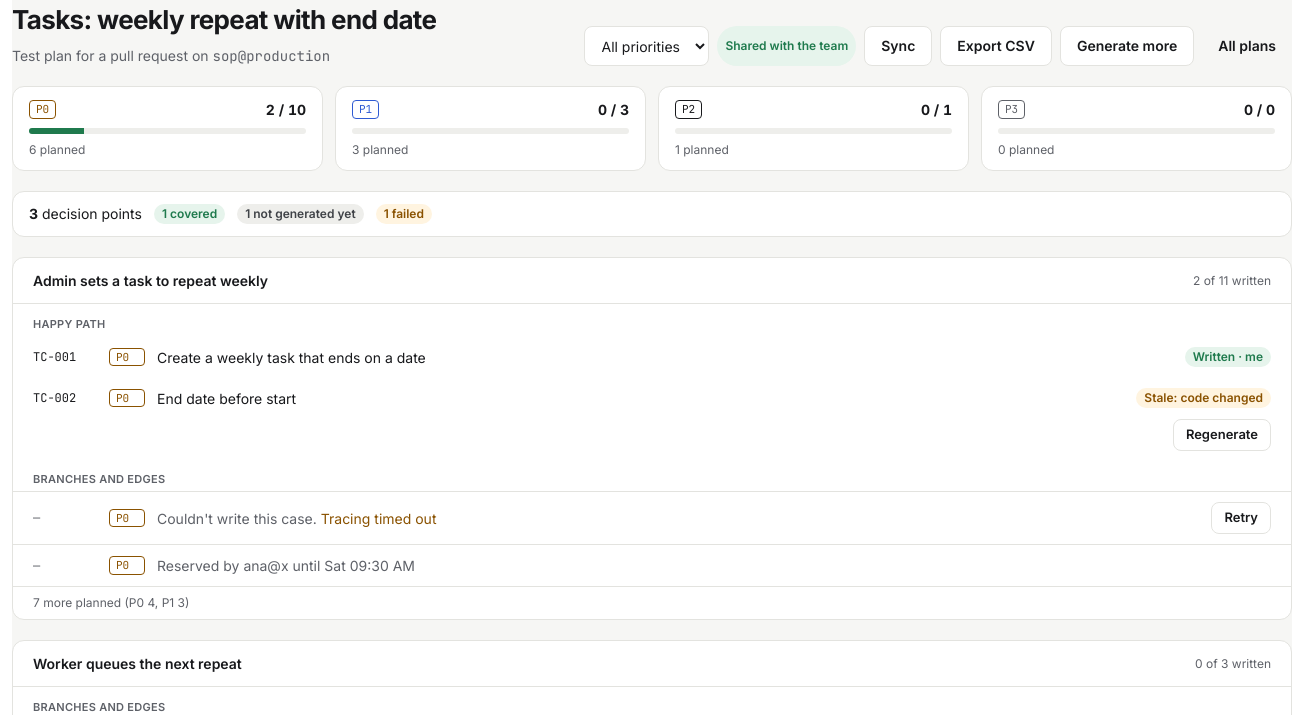
Test: reserve_and_generate_on_shared_plan_with_offline_warning
This screenshot has width=1304, height=715.
What coordinates should you click on to do the following:
click the button "Generate more"
I would click on:
 (1127, 46)
Its box is [1060, 26, 1194, 66].
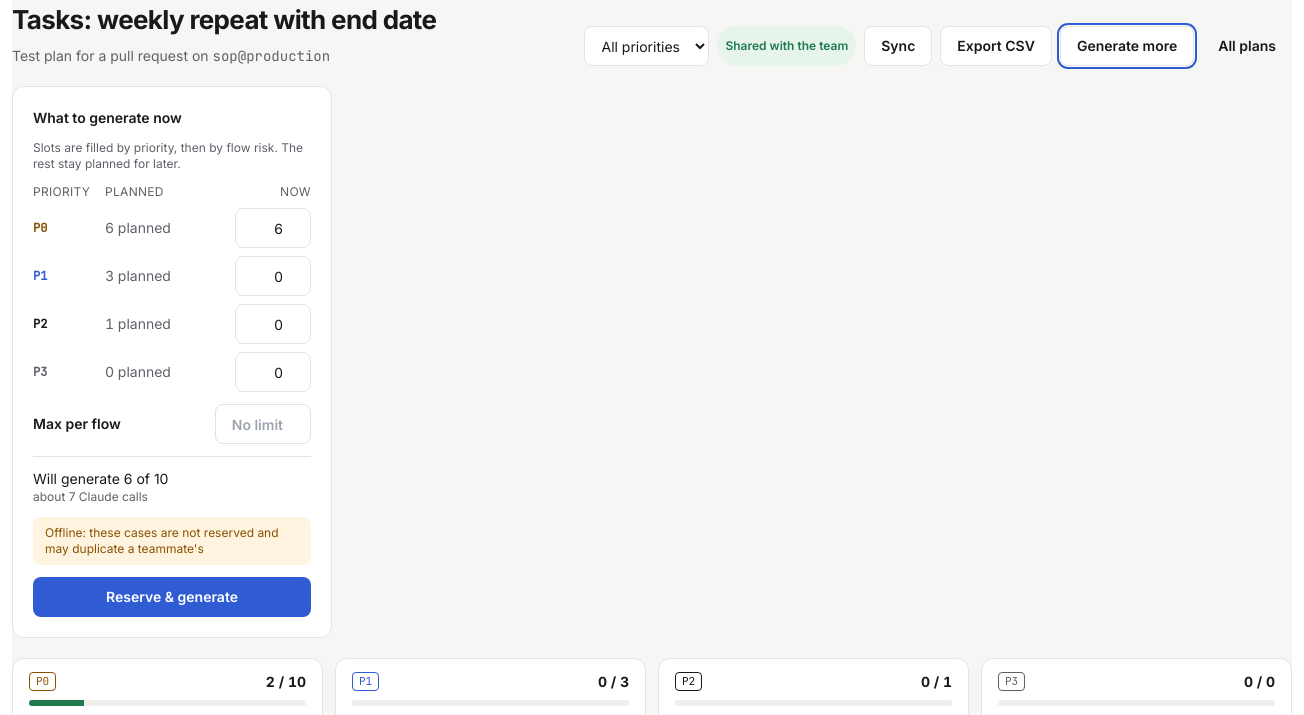
Check: the button "Reserve & generate" is shown, box [33, 577, 311, 617]
Check: the text "Offline: these cases are not reserved and may duplicate a teammate's" is shown, box [33, 517, 311, 565]
